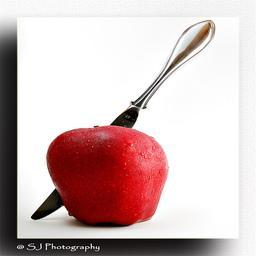apple: (46, 126, 169, 226)
